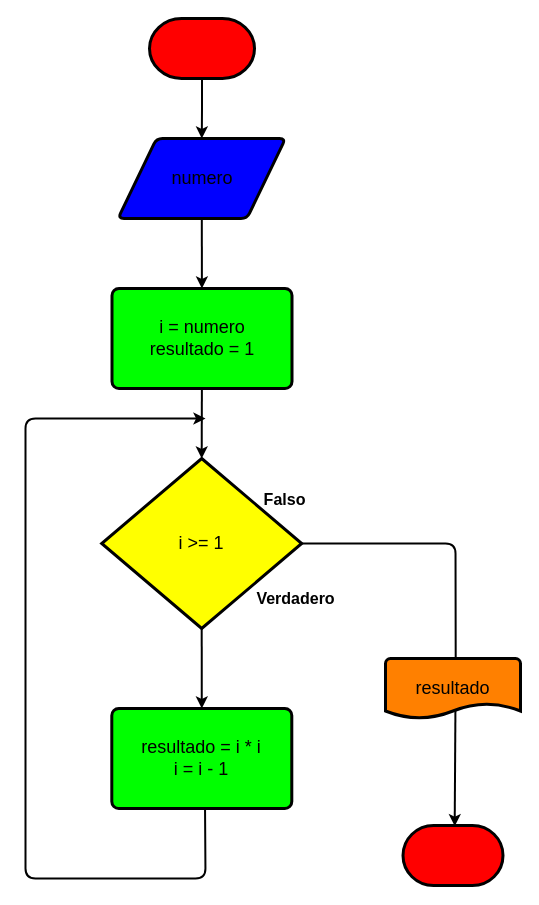
This 539x905 diagram has some shape labels left out. Each missing label, with the box of its shape:
FIN: (401, 824, 504, 886)
INICIO: (148, 16, 256, 80)
